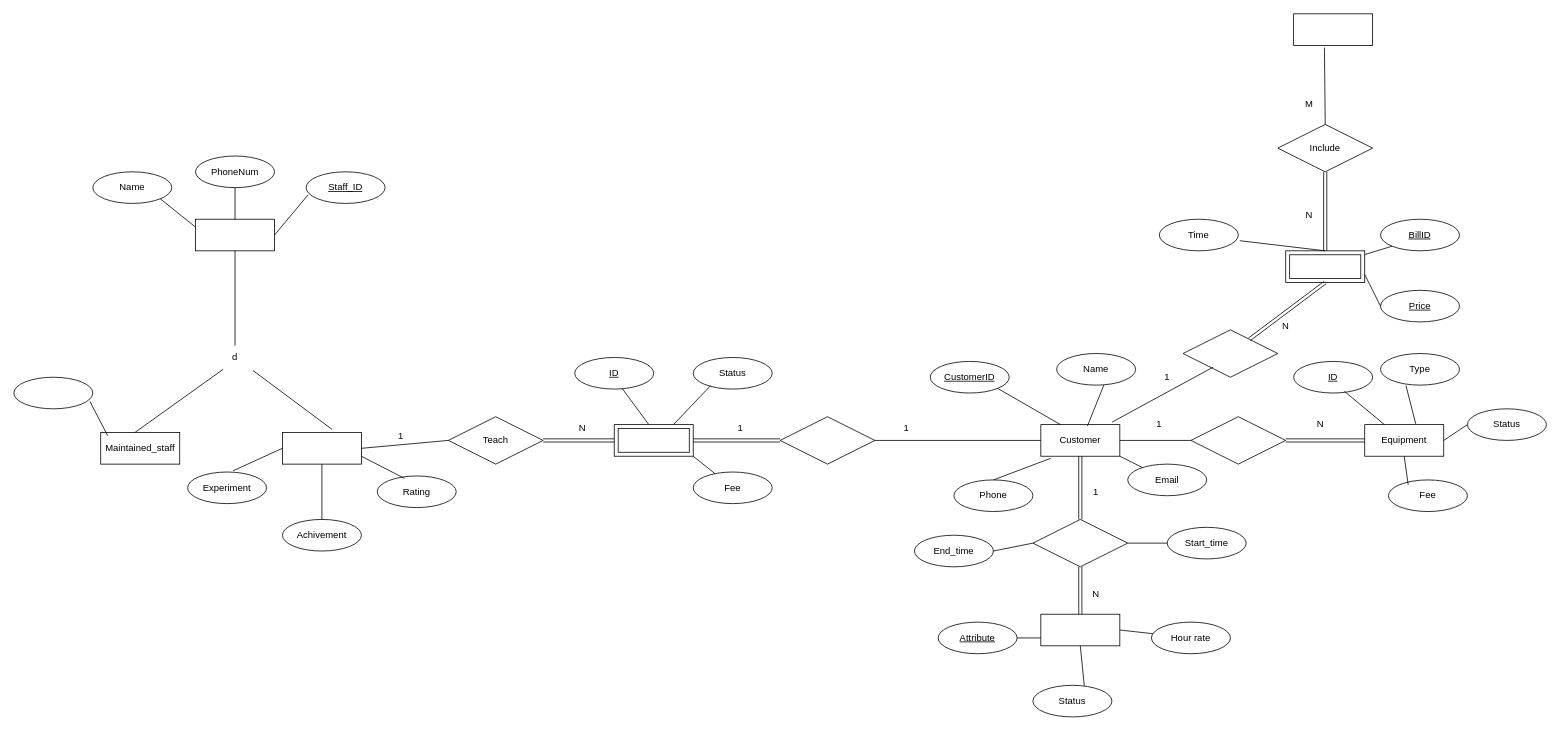
Image size: 1560x731. Some labels were removed from this diagram. Here are the shapes that lost their labels. From the top down, the box of each, then its label:
(1293, 13, 1373, 45): Food, Beverage
(195, 218, 275, 251): Staff
(1285, 250, 1365, 282): Bill
(1182, 329, 1278, 377): Order
(13, 376, 93, 409): Assigned_court
(282, 432, 361, 464): Coach
(613, 424, 693, 456): Training Session
(779, 416, 875, 464): Sign Up
(1190, 416, 1286, 464): Rent
(1032, 519, 1128, 567): Book
(1040, 613, 1120, 646): Court
